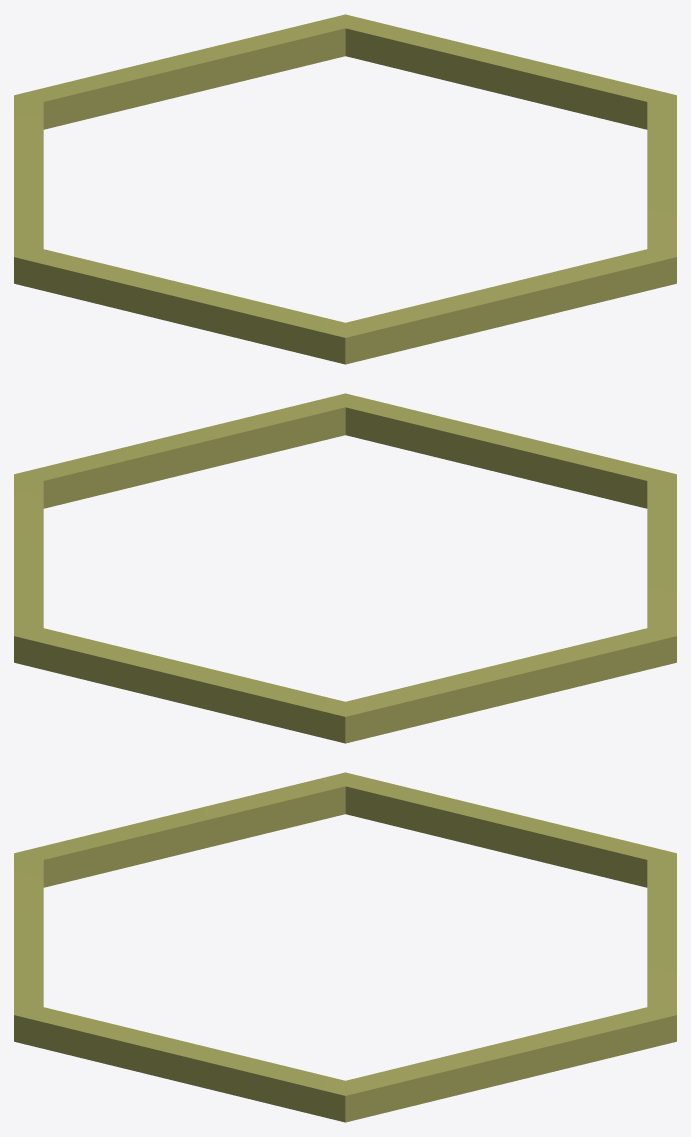
File: Disappeared_Tile.fbx
3 renders of one model, top to bottom at view 1: azimuth 30°, elevation 25°; view 2: azimuth 150°, elevation 25°; view 3: azimuth 270°, elevation 25°, orthographic.
Parts seen in each view (by area): view 1: pCylinder18; view 2: pCylinder18; view 3: pCylinder18.
Part boxes in pixels (x1=…): pCylinder18: x1=14, y1=14, x2=676, y2=364; pCylinder18: x1=14, y1=393, x2=676, y2=743; pCylinder18: x1=14, y1=772, x2=676, y2=1122.
Size of the model in its own units: 9.25 by 0.3717 by 8.01.
